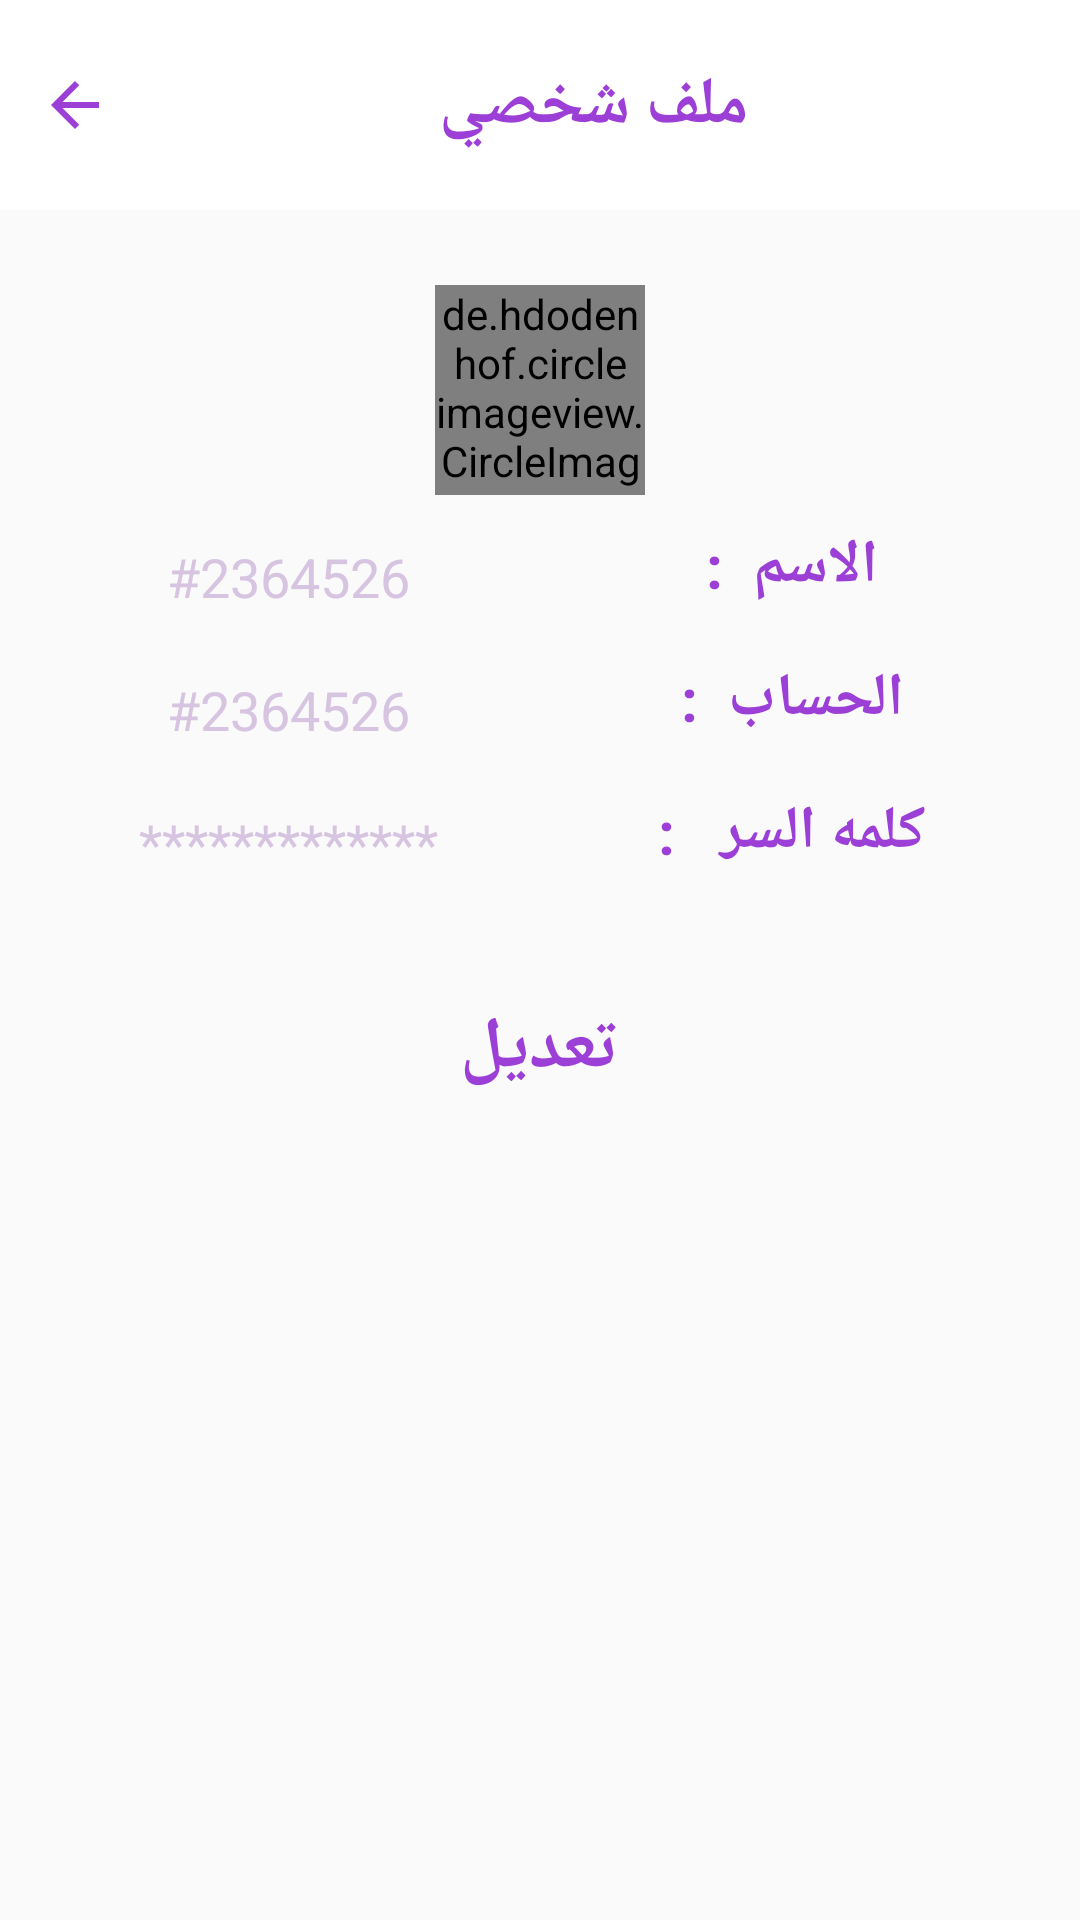

Screen size 1080 × 1920. Icon name, then its box in pixels as Rect(x1, y1, x2, y2):
back: Rect(51, 81, 99, 129)
